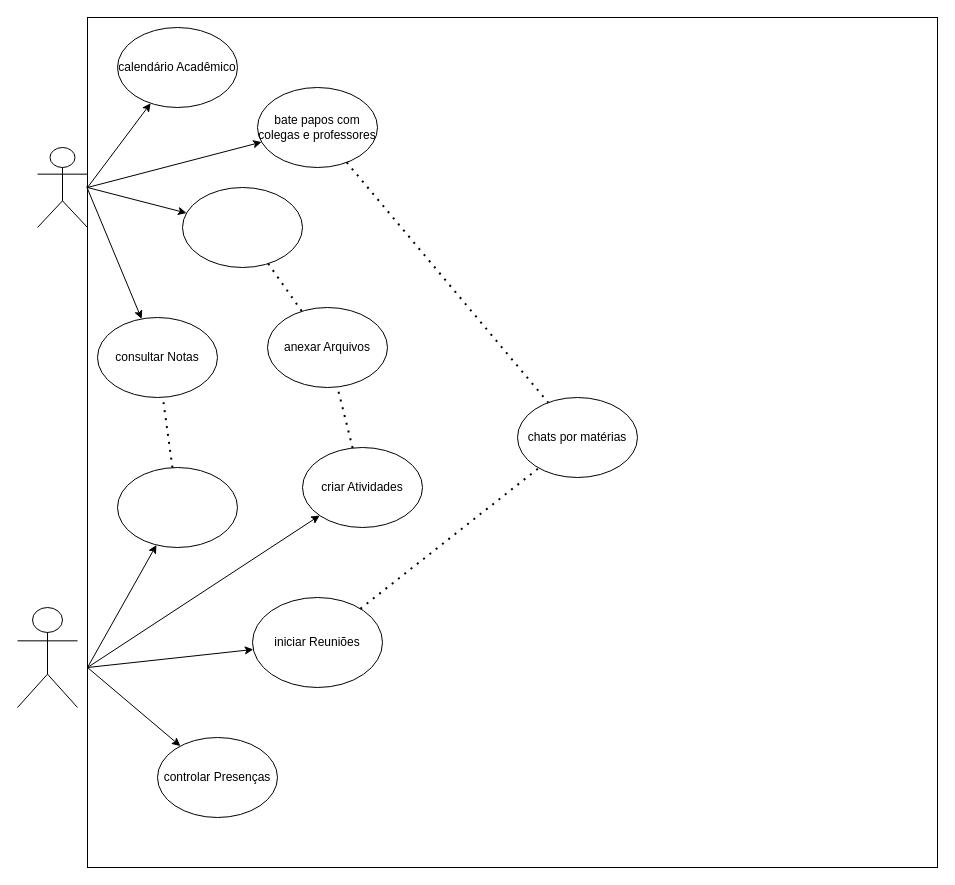
Some shapes in this 955 by 885 pixel diagram are drawn without their labels. Each missing label, with the centre of its shape:
"Aluno" goes at (62,187).
"enviar Atividades" goes at (242,227).
"lançamento de Notas" goes at (177,507).
"Professor" goes at (47,657).
